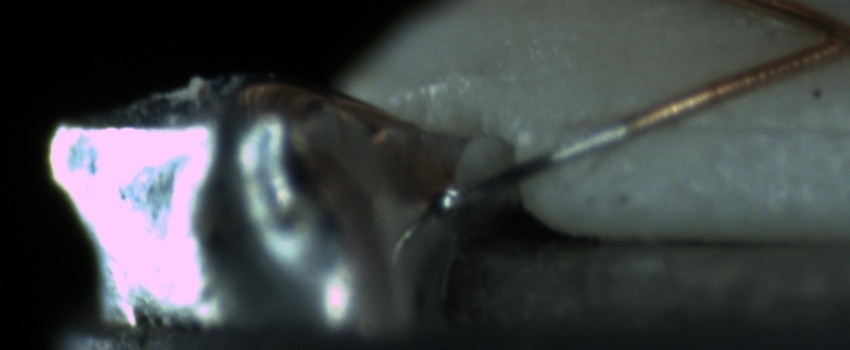CL: (795, 5, 850, 63)
DL: (669, 94, 850, 160)
TS: (444, 115, 631, 213)
